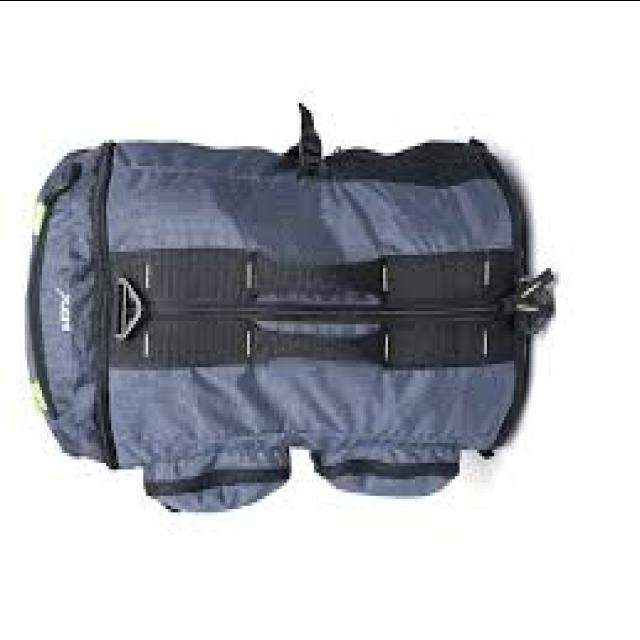backpack: (23, 104, 555, 516)
